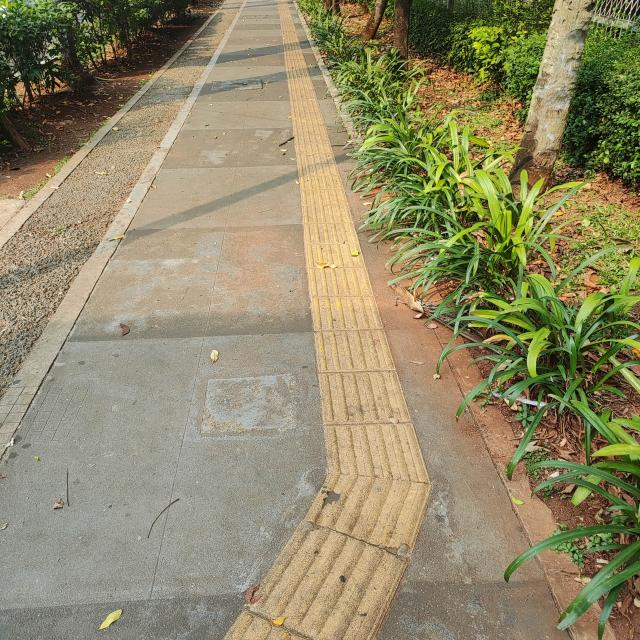lurus: (268, 8, 408, 470)
